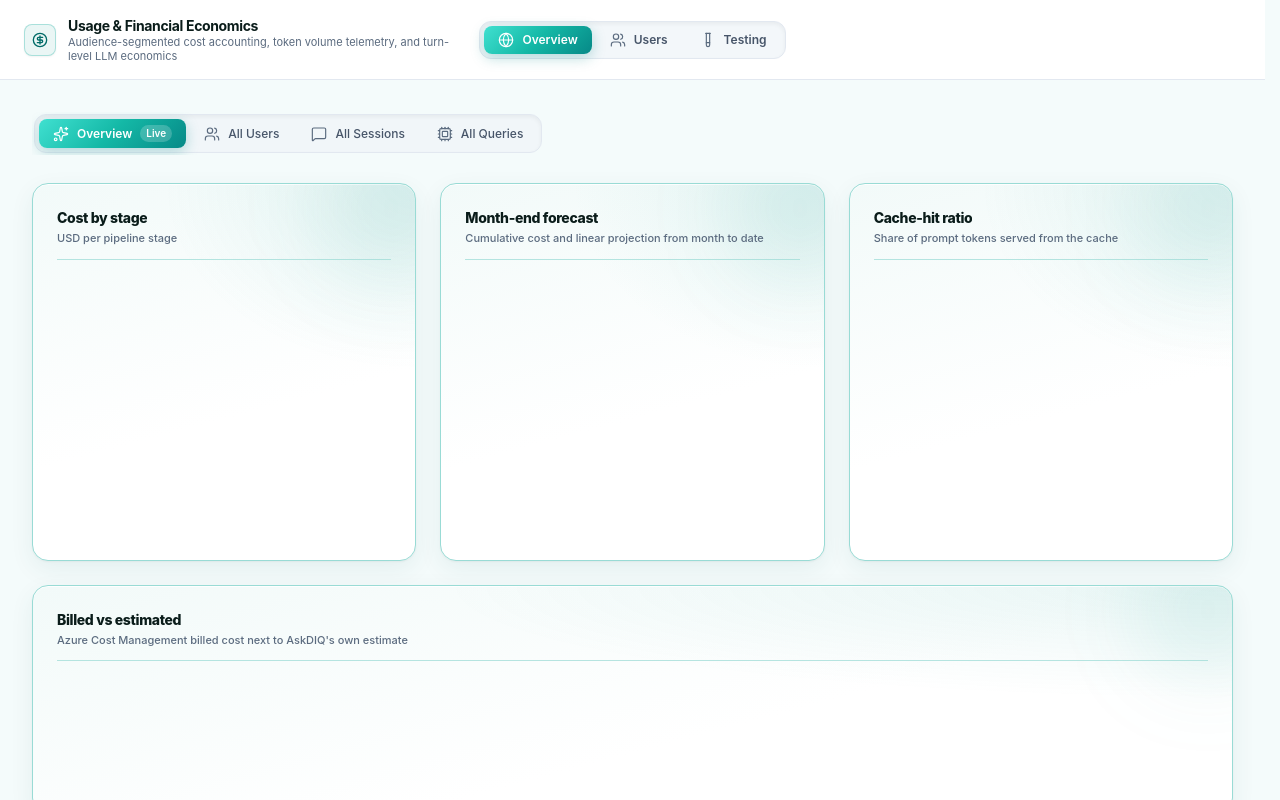
Test case: UsageCostPage Enterprise Intelligence Console › navigates to All Users tab and shows user IP and test IP rows
Click the tab "All Users" at (242, 134), box [190, 119, 293, 148]
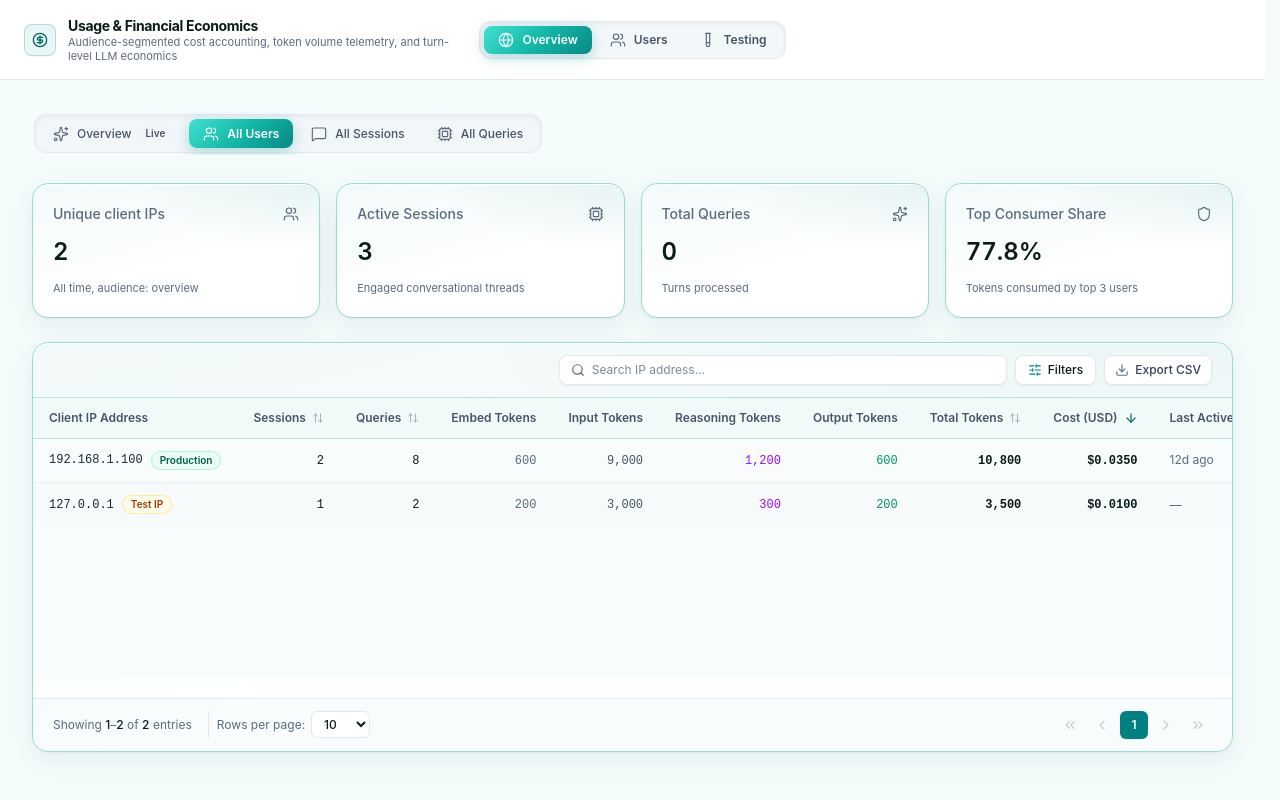
Check: the text "192.168.1.100" is shown, box [49, 452, 143, 468]
Check: the text "127.0.0.1" is shown, box [49, 497, 114, 513]
Check: the text "Test IP" is shown, box [131, 498, 163, 512]
